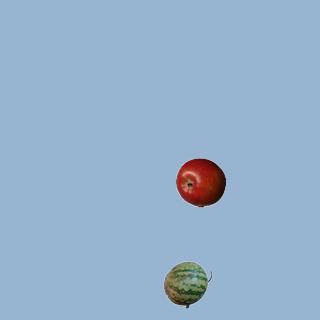Apple Braeburn: (175, 157, 225, 207)
Watermelon: (162, 259, 212, 309)
